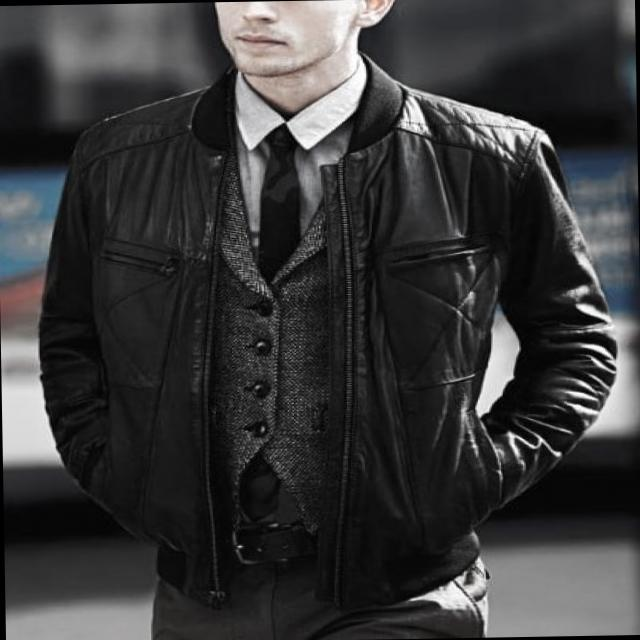Jacket: (33, 79, 613, 585)
